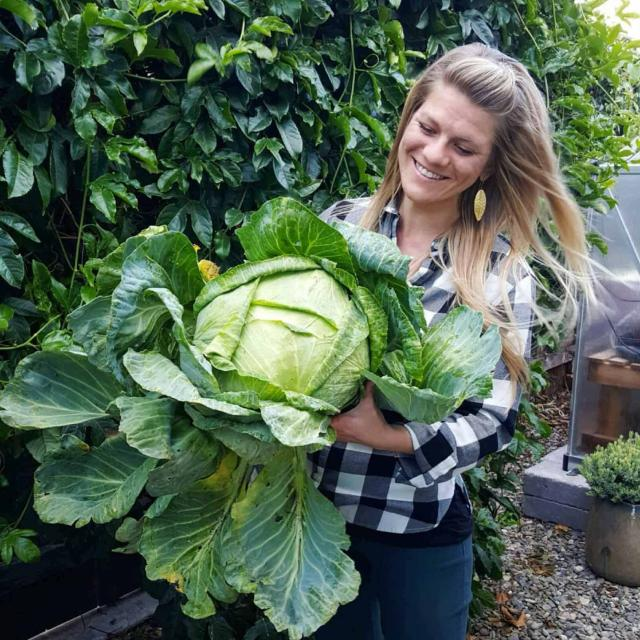cabbage: (192, 248, 378, 423)
